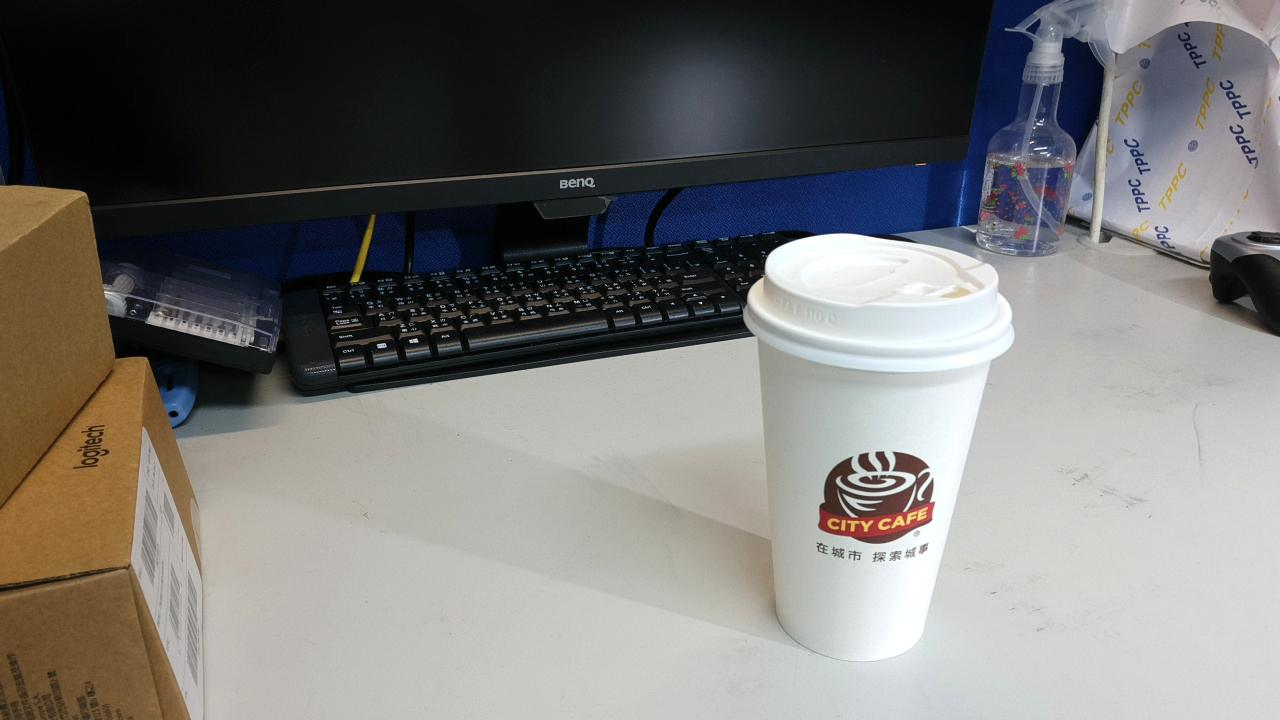columnar: (708, 302, 909, 551)
grip: (905, 349, 981, 498)
